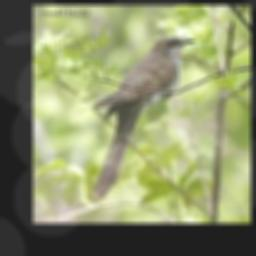Cuckoo: (94, 37, 196, 200)
